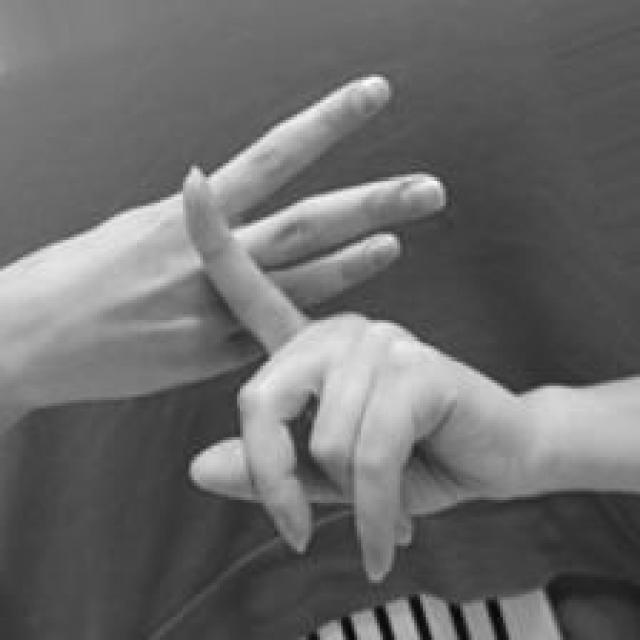E: (130, 62, 522, 589)
